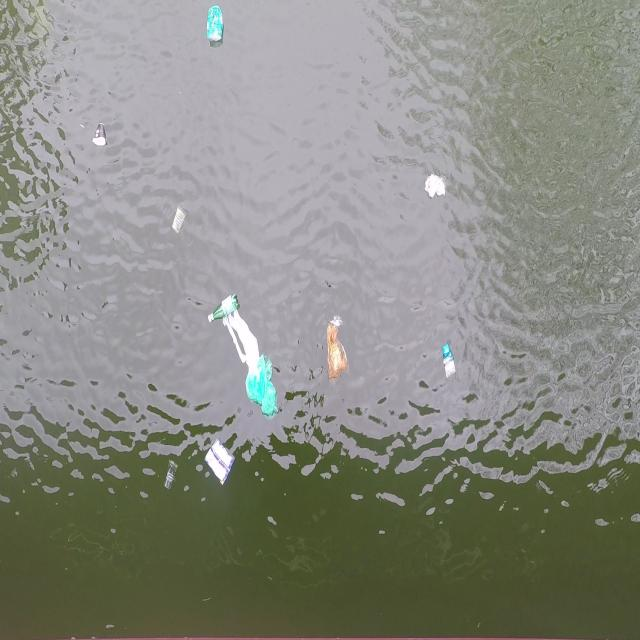Autre plastique: (172, 204, 186, 235)
Bouteille plastique: (206, 290, 240, 328)
Non plastique: (90, 123, 109, 160)
Sac plastique: (242, 358, 284, 424), (322, 311, 354, 389), (421, 168, 455, 205)
